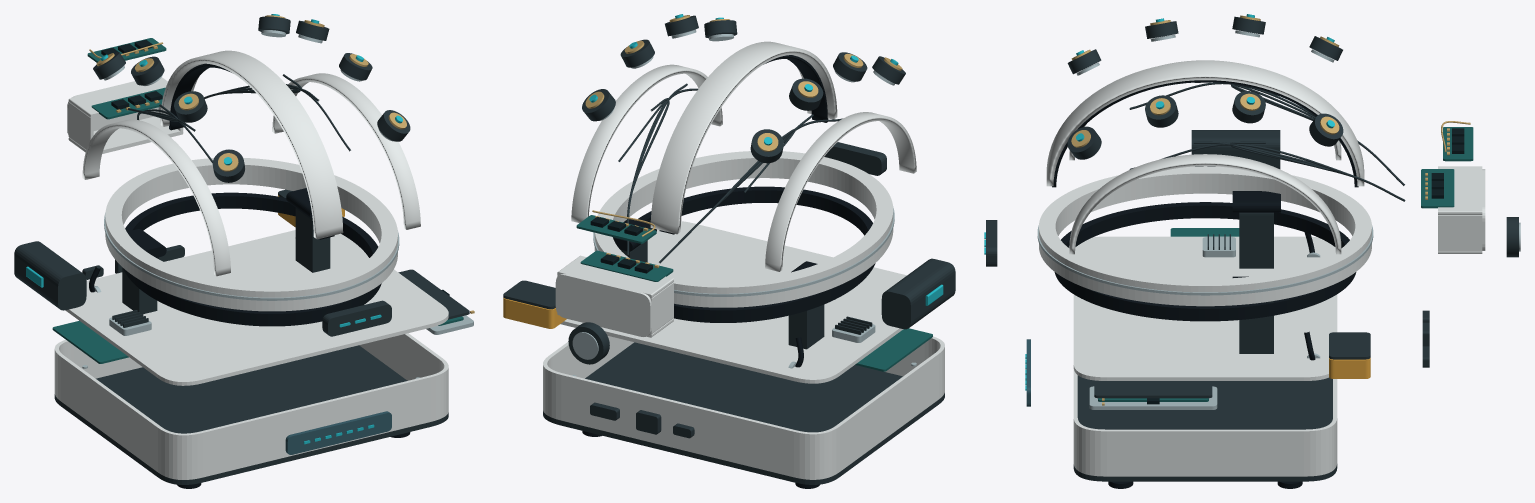
Rendered from continuum-c1-exploded.glb.
3 views of the same model, side by side, from view 1: azimuth 30°, elevation 25°; view 2: azimuth 150°, elevation 25°; view 3: azimuth 270°, elevation 25° (orthographic). The views are drawn at different scales.
Visible parts, largest first — view 1: D01_底座下壳, D02_可拆底座上盖, H01_主头环, H03_顶部主梁, H02_可拆软衬, H04_左电极导轨, H07_后部电子舱, D03_停放支架与软垫, H05_右电极导轨, H10_可拆电池组件, D04_接收与加密处理板, D07_同步状态面板 (+14 smaller); view 2: D01_底座下壳, D02_可拆底座上盖, H01_主头环, H03_顶部主梁, H07_后部电子舱, H02_可拆软衬, H04_左电极导轨, H05_右电极导轨, H10_可拆电池组件, D04_接收与加密处理板, D09_未来研究接口占位, D03_停放支架与软垫 (+14 smaller); view 3: D02_可拆底座上盖, D01_底座下壳, H01_主头环, H02_可拆软衬, H03_顶部主梁, D03_停放支架与软垫, H05_右电极导轨, D05_可移除存储模块, H07_后部电子舱, H06_低噪声信号线束, H10_可拆电池组件, D09_未来研究接口占位 (+13 smaller).
Part boxes in pixels (box(x1,y1,x2,y2)): D01_底座下壳: box(54, 333, 448, 484); D02_可拆底座上盖: box(65, 230, 448, 385); H01_主头环: box(104, 157, 399, 311); H03_顶部主梁: box(160, 50, 343, 239); H02_可拆软衬: box(123, 192, 381, 326); H04_左电极导轨: box(82, 119, 230, 276); H07_后部电子舱: box(67, 77, 183, 153); D03_停放支架与软垫: box(122, 188, 330, 314); H05_右电极导轨: box(272, 73, 420, 229); H10_可拆电池组件: box(14, 241, 86, 310); D04_接收与加密处理板: box(52, 310, 151, 363); D07_同步状态面板: box(285, 411, 391, 454); D01_底座下壳: box(543, 336, 944, 484); D02_可拆底座上盖: box(560, 221, 906, 383); H01_主头环: box(593, 151, 894, 307); H03_顶部主梁: box(650, 41, 837, 234); H07_后部电子舱: box(555, 255, 673, 337); H02_可拆软衬: box(638, 186, 875, 322); H04_左电极导轨: box(765, 112, 916, 271); H05_右电极导轨: box(571, 64, 722, 222); H10_可拆电池组件: box(881, 258, 955, 329); D04_接收与加密处理板: box(832, 316, 932, 371); D09_未来研究接口占位: box(503, 280, 566, 328); D03_停放支架与软垫: box(613, 219, 824, 349); D02_可拆底座上盖: box(1073, 236, 1337, 380); D01_底座下壳: box(1073, 369, 1337, 481); H01_主头环: box(1037, 166, 1373, 306); H02_可拆软衬: box(1054, 202, 1356, 321); H03_顶部主梁: box(1046, 61, 1364, 187); D03_停放支架与软垫: box(1232, 191, 1280, 353); H05_右电极导轨: box(1069, 154, 1341, 254); D05_可移除存储模块: box(1089, 380, 1217, 409); H07_后部电子舱: box(1438, 166, 1485, 253); H06_低噪声信号线束: box(1129, 82, 1405, 201); H10_可拆电池组件: box(1191, 130, 1280, 168); D09_未来研究接口占位: box(1329, 332, 1370, 378).
Size of the model in its own units: 0.3161 by 0.2997 by 0.3862.
